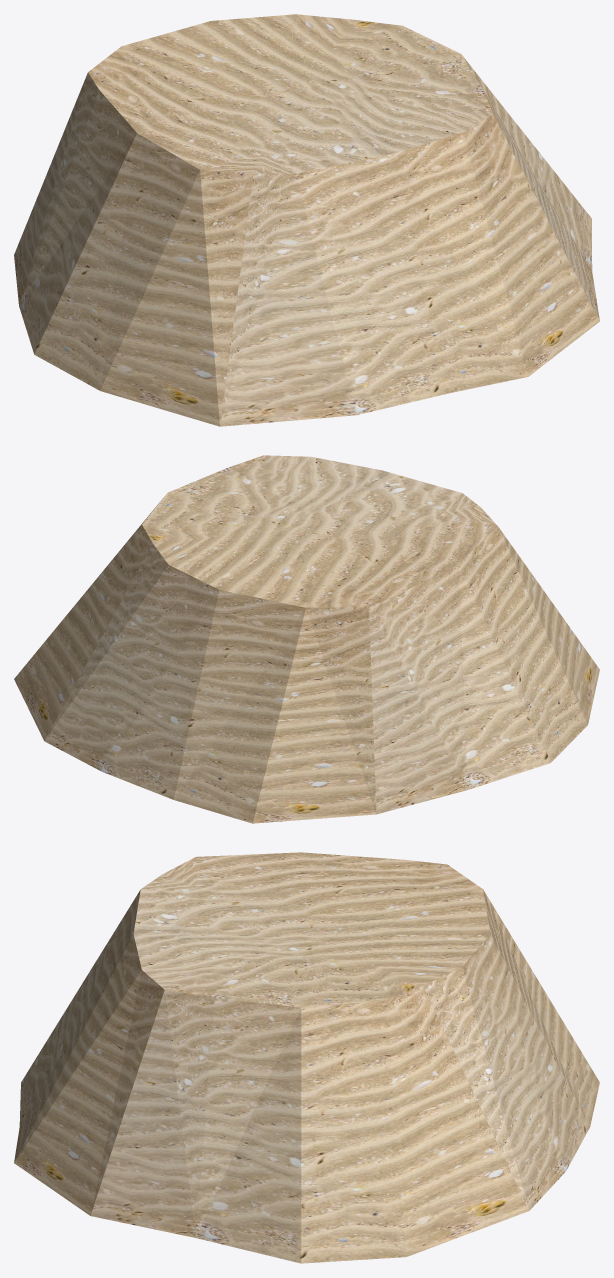
File: isla10.fbx
The picture shows the model from 3 angles, top to bottom: view 1: azimuth 30°, elevation 25°; view 2: azimuth 150°, elevation 25°; view 3: azimuth 270°, elevation 25°; orthographic projection. The views are drawn at different scales.
Parts seen in each view (by area): view 1: Cubo; view 2: Cubo; view 3: Cubo.
Part boxes in pixels (left/top/right/bottom): Cubo: left=14, top=14, right=599, bottom=426; Cubo: left=14, top=455, right=599, bottom=823; Cubo: left=14, top=852, right=599, bottom=1263.
Size of the model in its own units: 300 by 101 by 278.
1 material, 1 textured.
